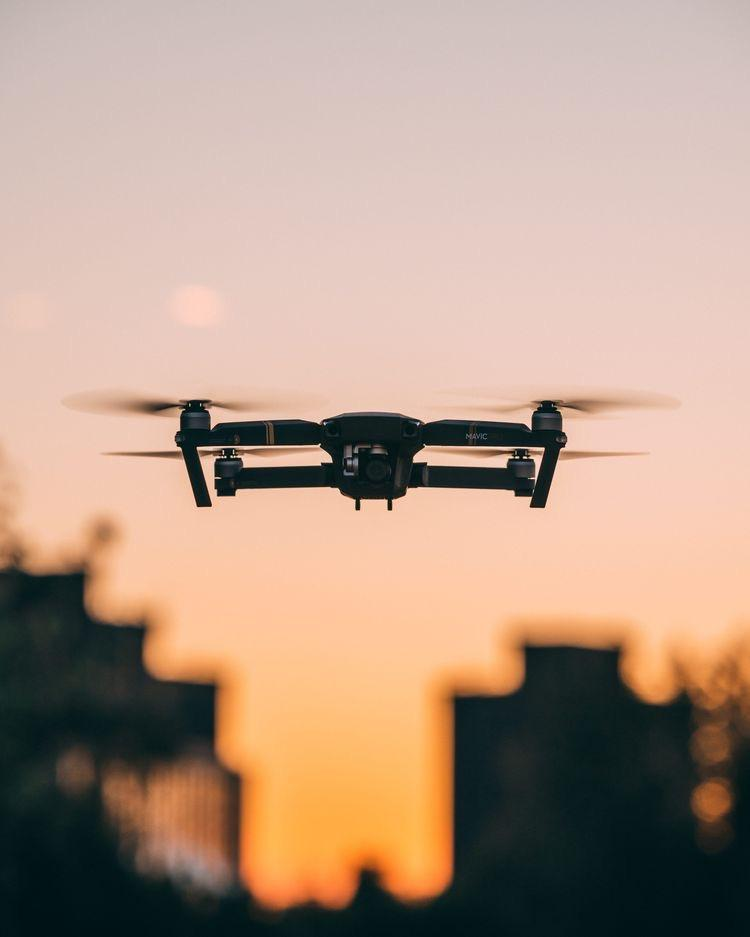drone_other: (59, 383, 683, 514)
